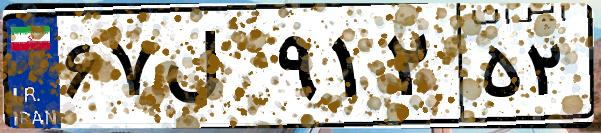1: (330, 28, 385, 110)
2: (385, 28, 445, 110), (525, 38, 570, 115)
5: (475, 38, 525, 113)
6: (57, 26, 110, 100)
7: (110, 28, 158, 98)
9: (270, 28, 330, 110)
ل: (158, 20, 270, 120)
